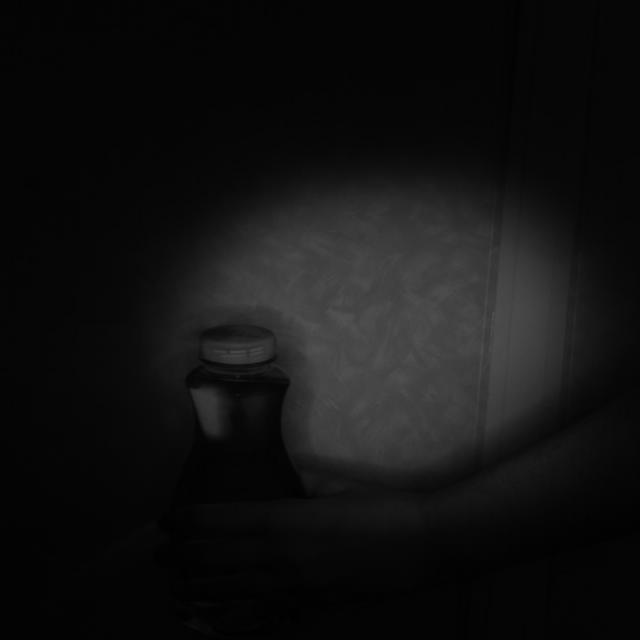Good: (197, 324, 279, 367)
